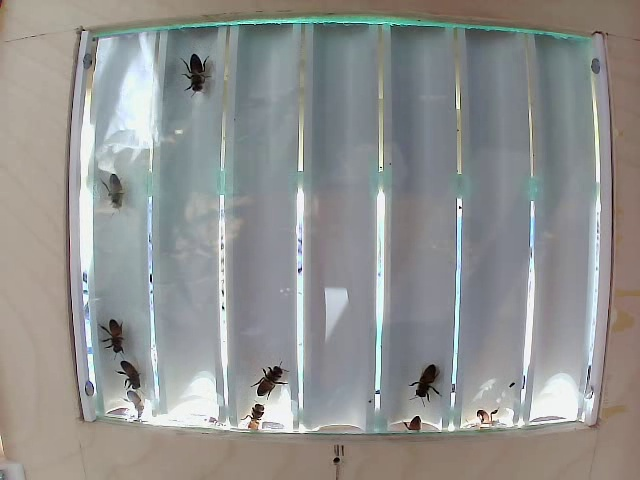bee: (183, 44, 214, 98), (111, 349, 148, 387), (245, 365, 287, 397), (98, 169, 136, 203), (94, 317, 133, 350), (408, 360, 436, 393)
